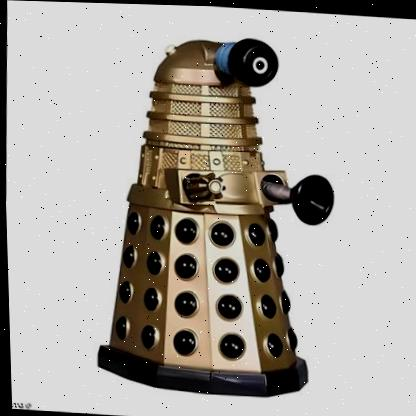dalek: (58, 13, 351, 416)
